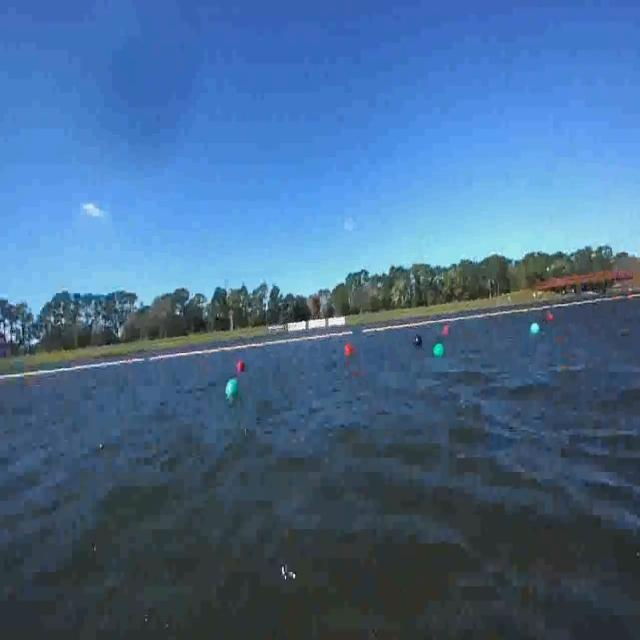black-buoy: (412, 332, 422, 345)
green-buoy: (432, 343, 446, 360), (225, 376, 237, 395), (532, 324, 543, 338)
red-buoy: (238, 361, 246, 372), (346, 345, 354, 354), (546, 314, 552, 322)
